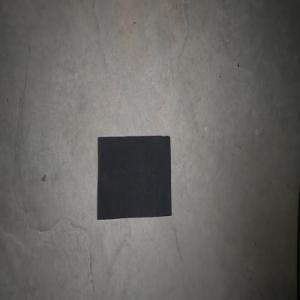PaintChip: (96, 135, 172, 219)
